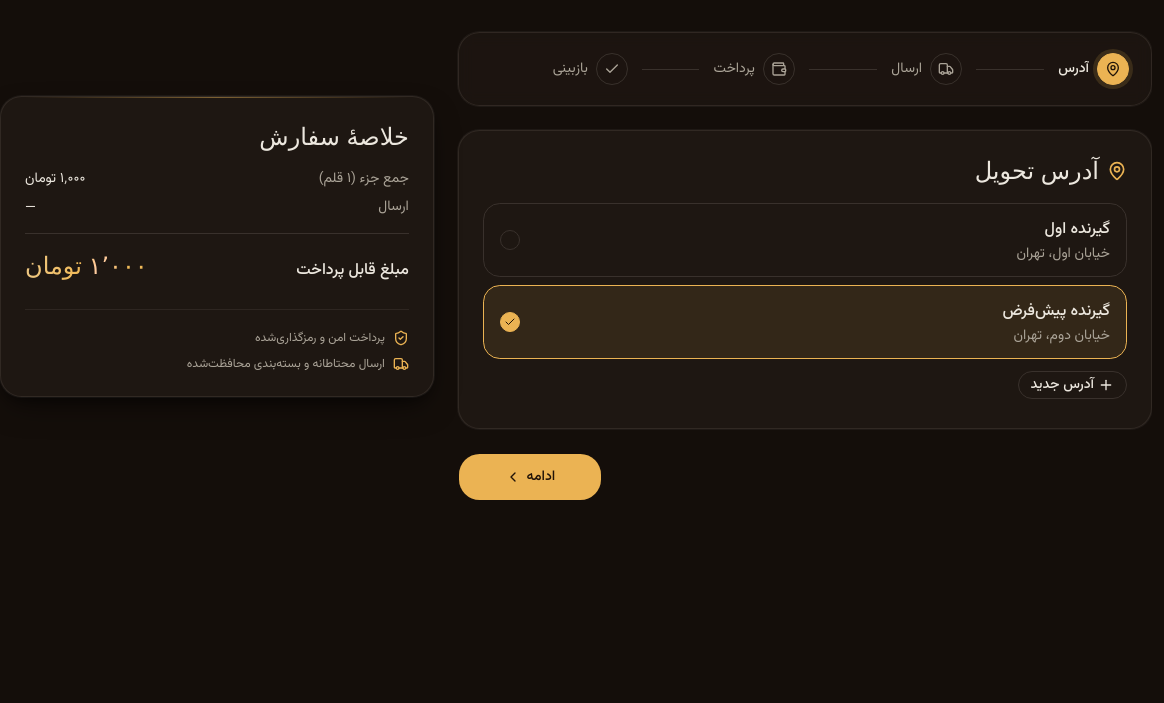
checkout state logic › warns before submit when the wallet cannot cover the order
Step 1. Click the button "ادامه" → (530, 477), box [458, 453, 602, 501]
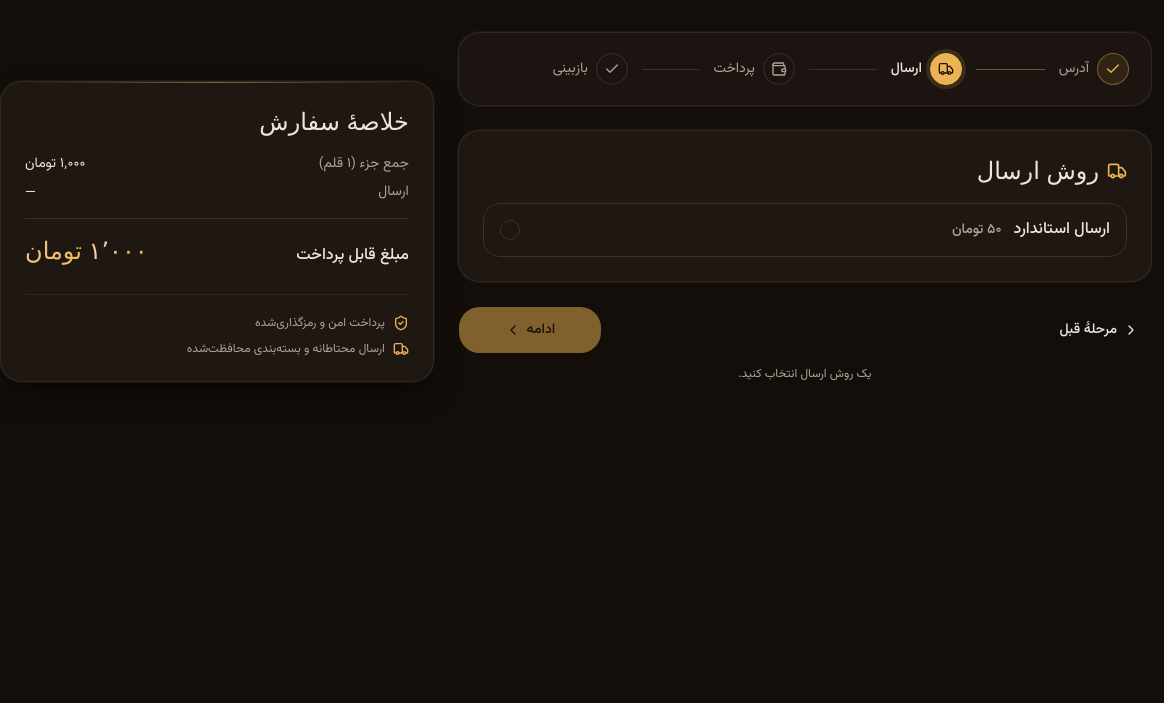
Step 2. Click the radio button labelled "ارسال استاندارد ۵۰ تومان" → (1062, 230), box [483, 203, 1127, 257]
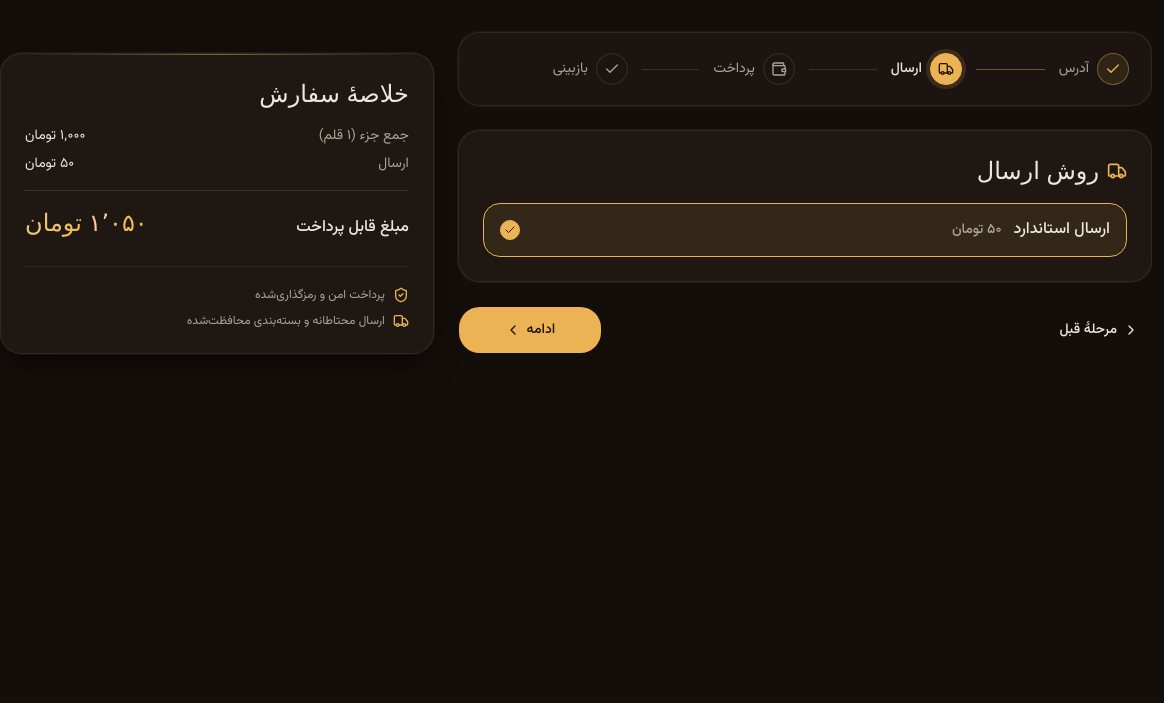
Step 3. Click the button "ادامه" → (530, 330), box [458, 306, 602, 354]
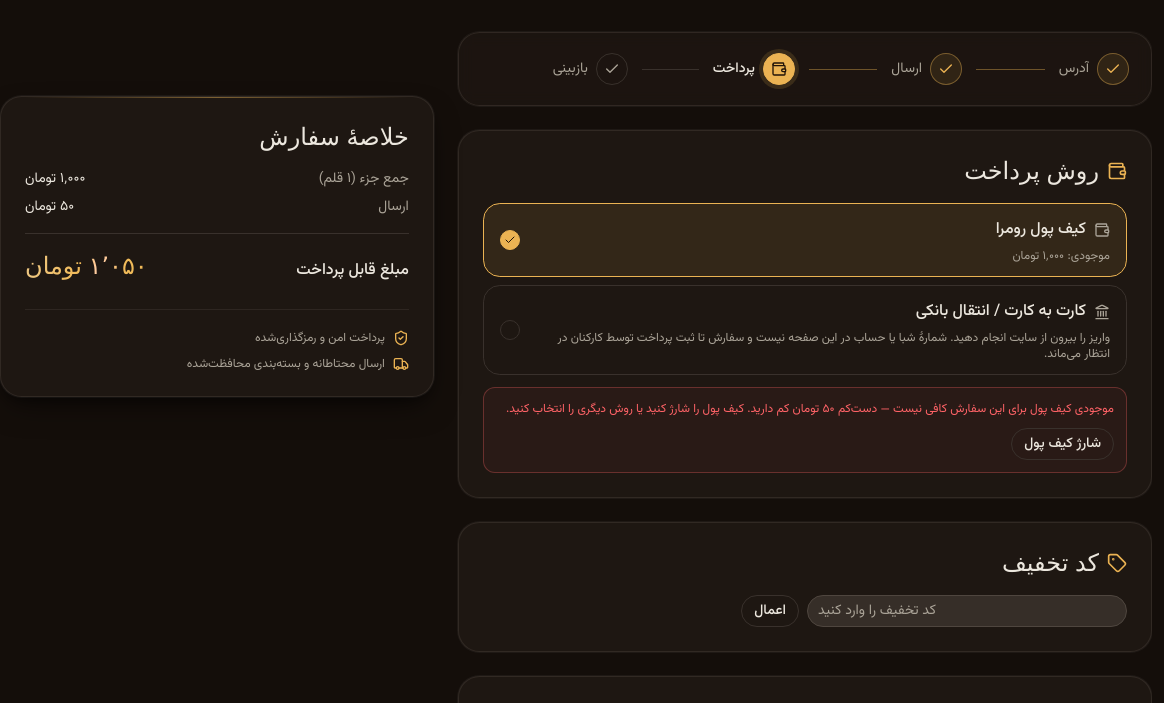
Expected: the text "موجودی: ۱٬۰۰۰ تومان" is shown, [996, 248, 1110, 264]
Expected: the element with test id "checkout-wallet-shortfall" is shown, [483, 387, 1127, 472]
